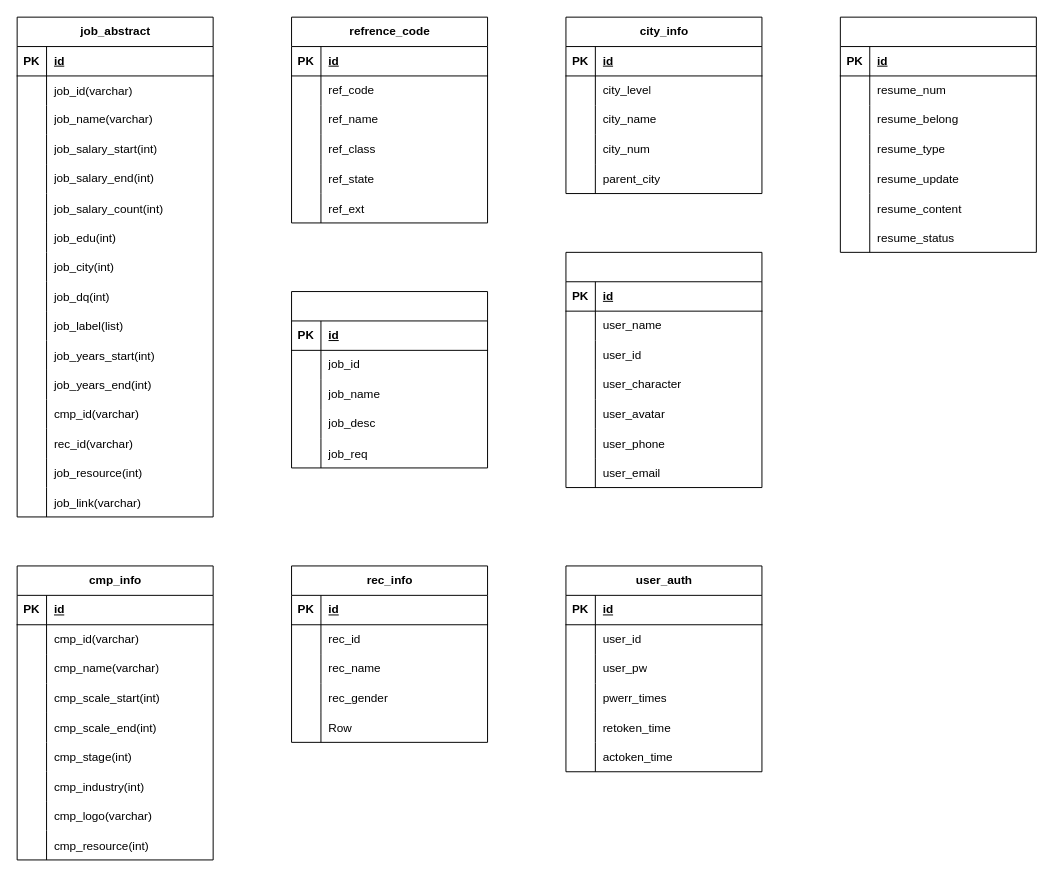
This 1054x877 diagram has some shape labels left out. Here are the shapes that lost their labels. From the top down, the box of each, then its label:
(839, 16, 1036, 252): resume_info
(291, 291, 488, 468): job_detail
(565, 251, 762, 488): user_info
